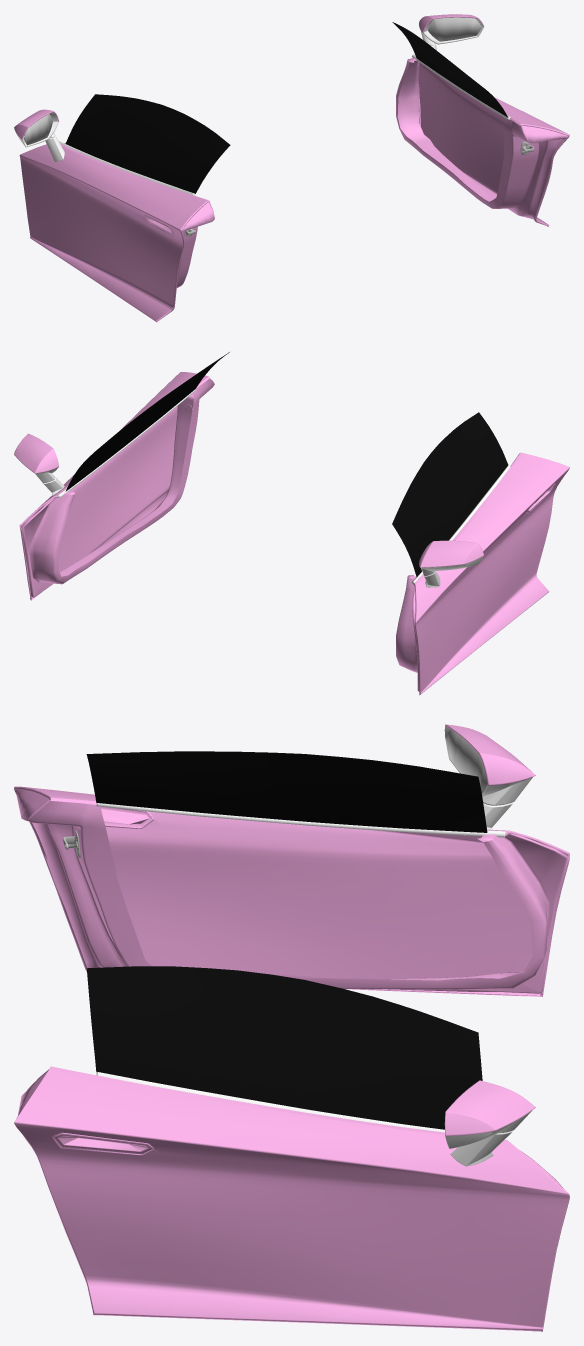
3 views of the same model, one above another, from view 1: azimuth 30°, elevation 25°; view 2: azimuth 150°, elevation 25°; view 3: azimuth 270°, elevation 25° (orthographic). The views are drawn at different scales.
Parts seen in each view (by area): view 1: DoorFrLeft_1; view 2: DoorFrLeft_1; view 3: DoorFrLeft_1.
Boxes of the visible parts, <box> form: DoorFrLeft_1: <box>14,14,569,322</box>; DoorFrLeft_1: <box>14,352,569,695</box>; DoorFrLeft_1: <box>14,724,569,1331</box>.
Bounding box in the file's own units: 2.23 × 0.7985 × 1.32.
